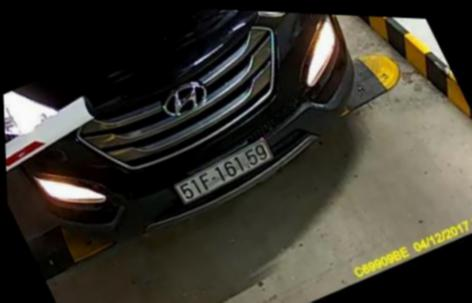License_Plate: (173, 131, 277, 207)
